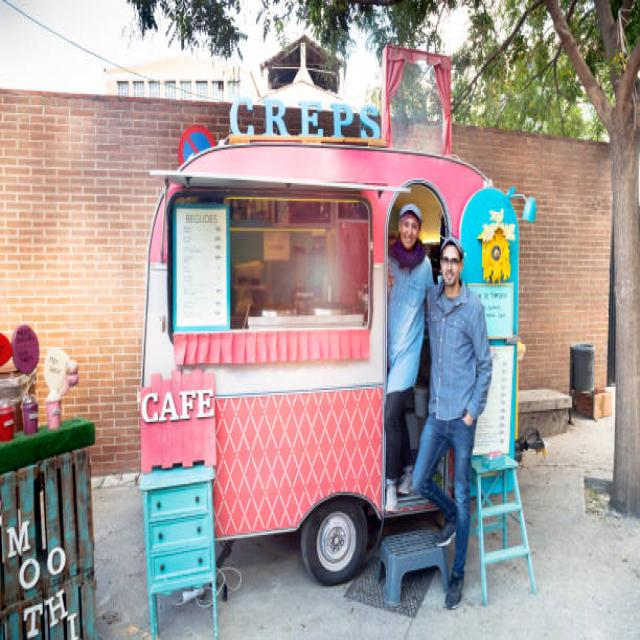Emperan: (114, 27, 546, 628)
